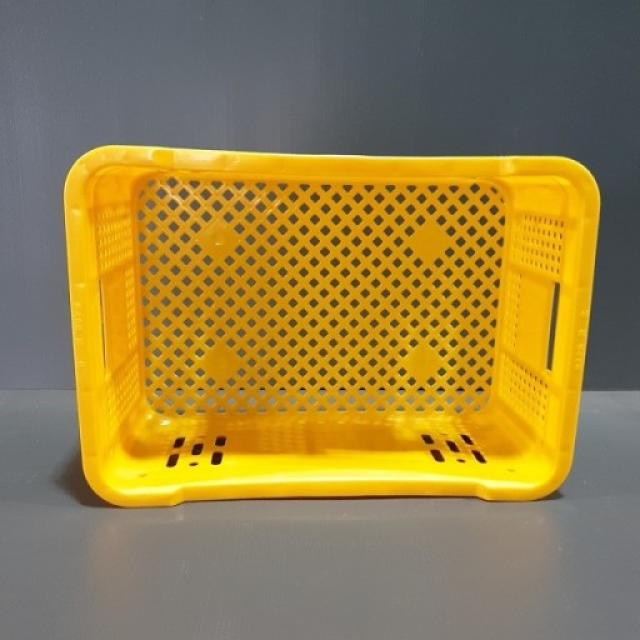basket: (56, 144, 603, 518)
